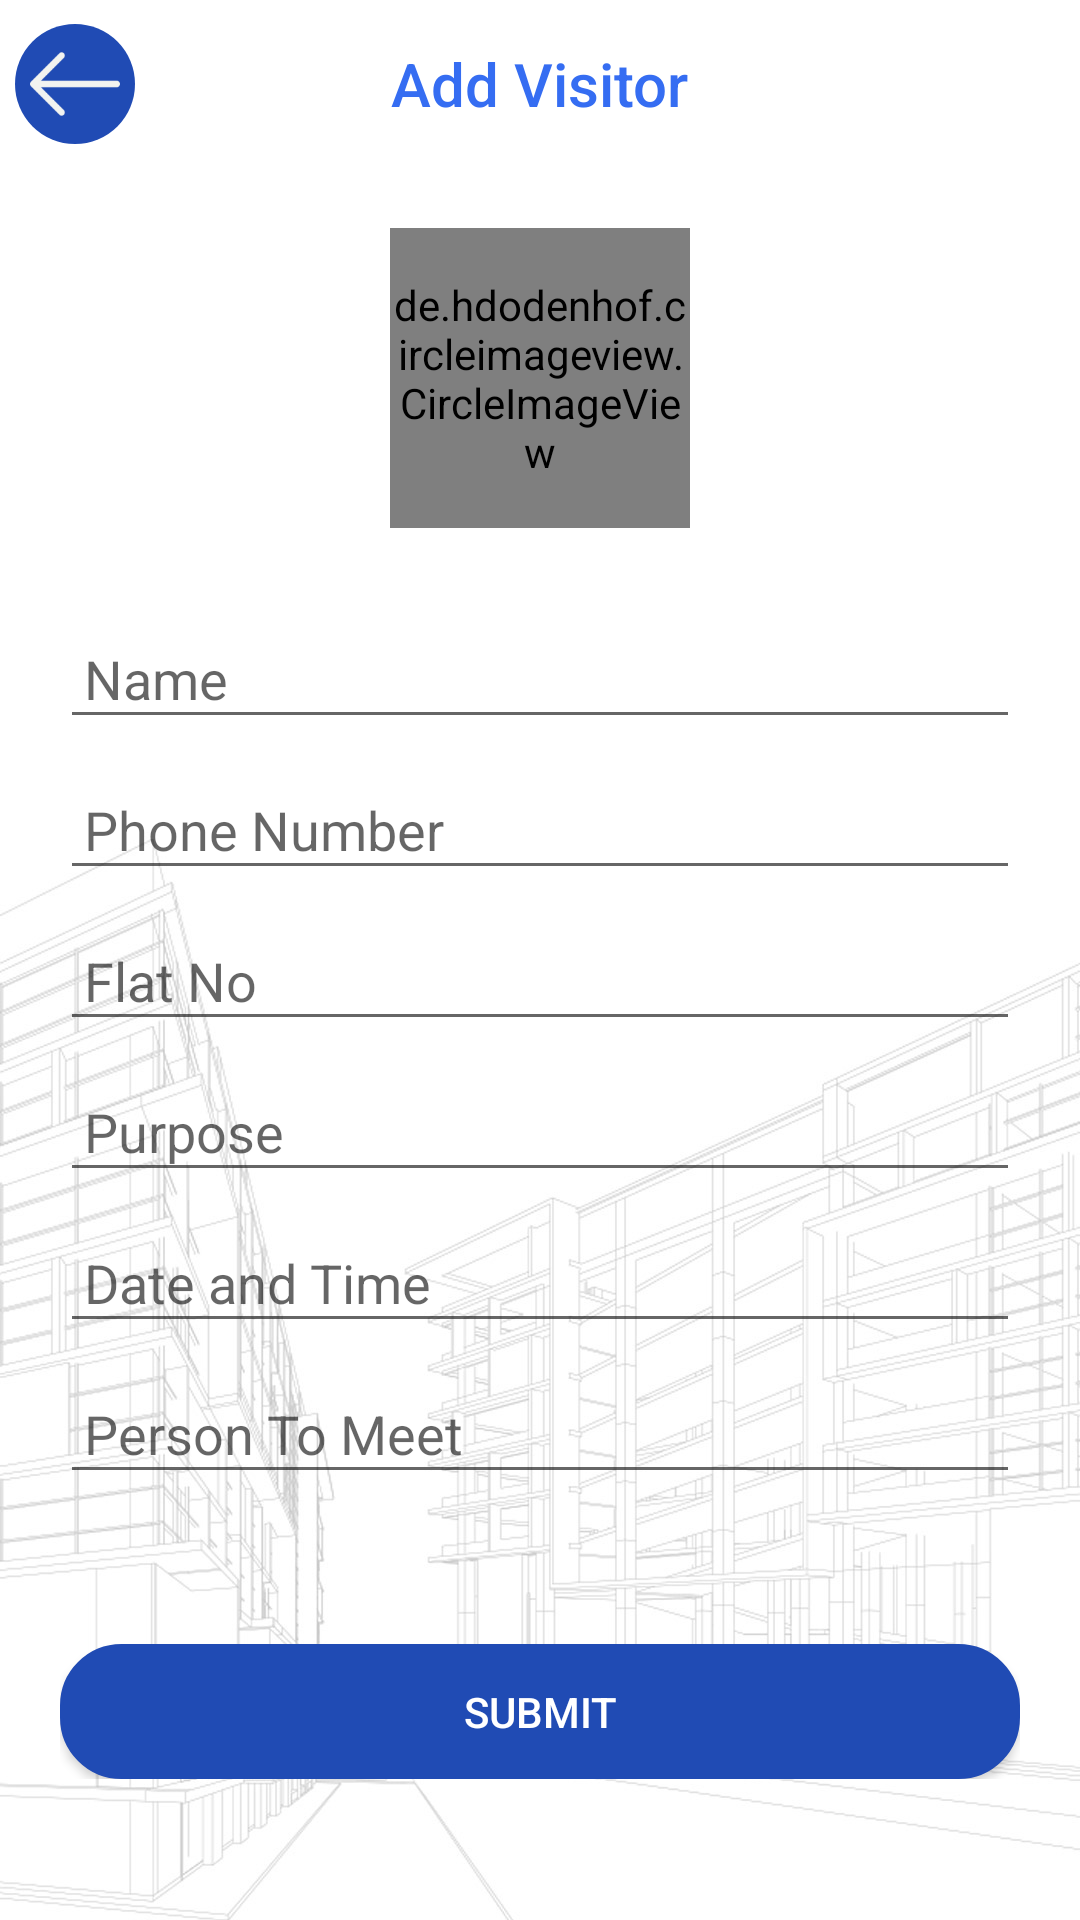

Locate icon controls on the screen. Image size 1080 × 1920, boxes as (x1, y1, x2, y2).
backarrow: (30, 52, 120, 116)
